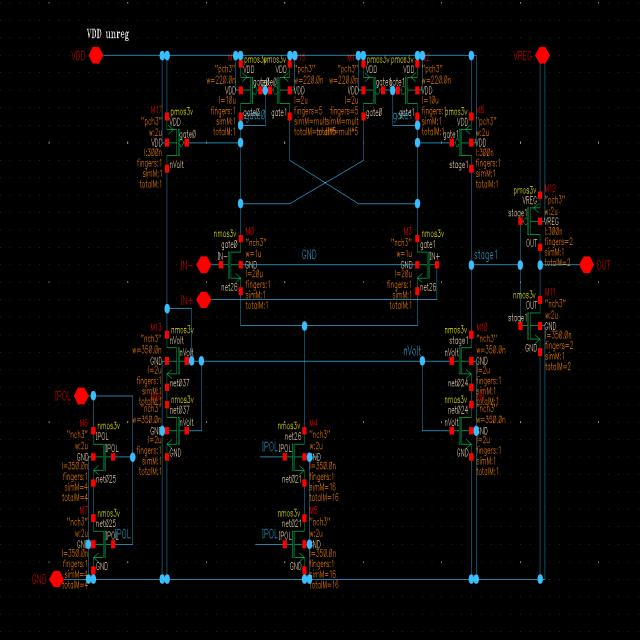nmos: (213, 229, 244, 296), (277, 421, 307, 488), (277, 508, 308, 572), (513, 292, 543, 358), (444, 325, 474, 391), (444, 396, 474, 462), (415, 230, 441, 296), (91, 422, 117, 488), (164, 396, 190, 461), (91, 510, 117, 574), (165, 326, 189, 391)
pmos: (445, 108, 475, 173), (264, 56, 293, 122), (513, 187, 543, 250), (391, 57, 420, 122), (164, 106, 190, 176), (361, 56, 386, 121), (239, 56, 263, 119)
